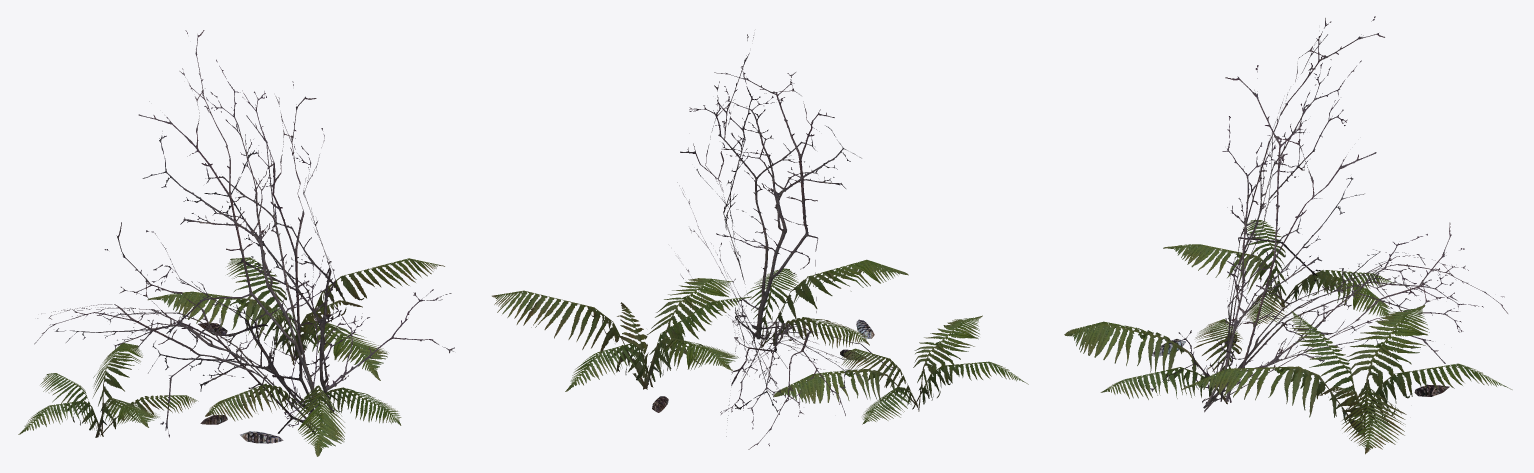
The model's file is prop_log_ac.FBX.
3 renders of one model, left to right at view 1: azimuth 30°, elevation 25°; view 2: azimuth 150°, elevation 25°; view 3: azimuth 270°, elevation 25°, orthographic. The views are drawn at different scales.
Visible parts, largest first — view 1: prop_log_ac; view 2: prop_log_ac; view 3: prop_log_ac.
Part boxes in pixels (x1,y1,x2,y2): prop_log_ac: (18,30,454,456); prop_log_ac: (492,34,1028,449); prop_log_ac: (1064,16,1512,454).
Bounding box in the file's own units: 2.8 × 2.17 × 2.03.
Materials: 1 (1 with a texture image).
